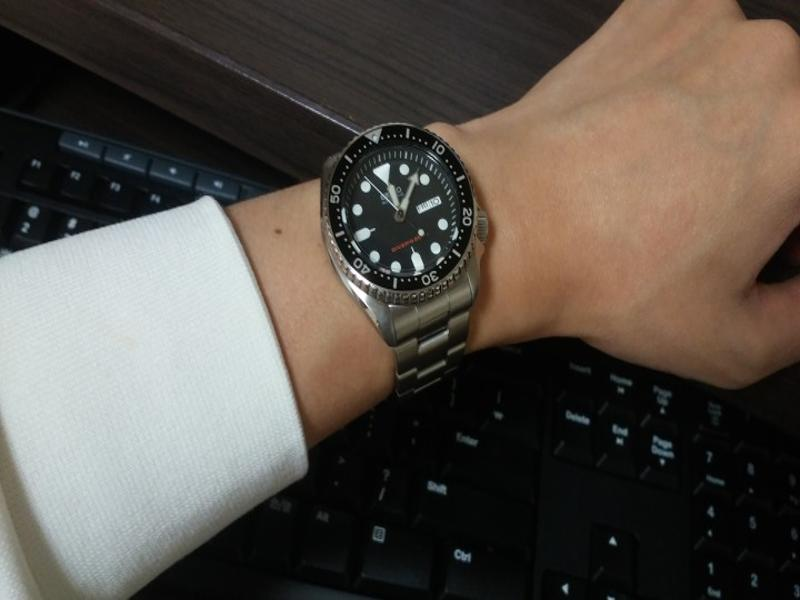watch: (317, 119, 492, 403)
